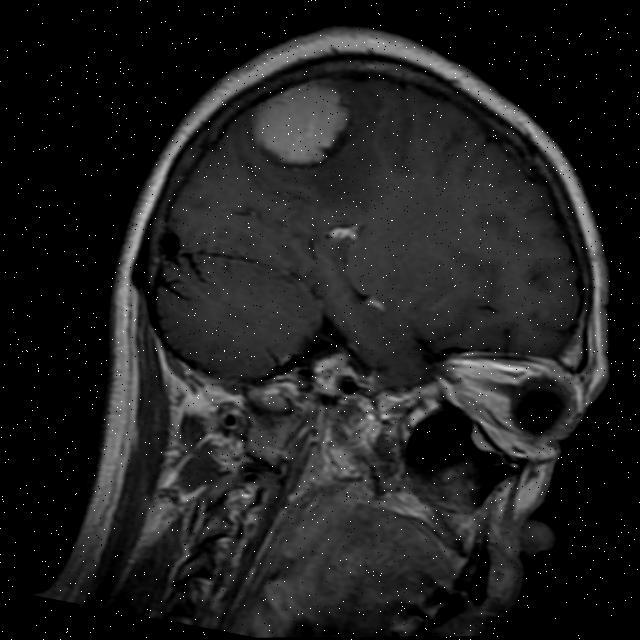Meningioma: (237, 68, 361, 177)
